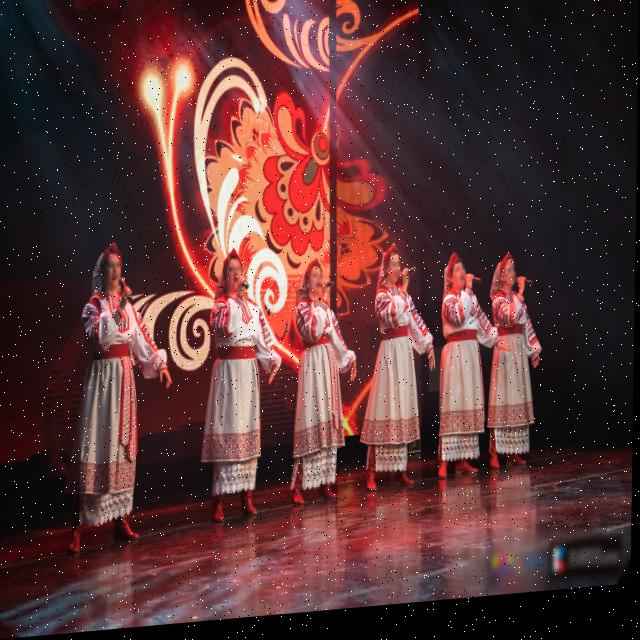Person: (73, 228, 157, 560), (201, 240, 276, 547), (358, 248, 430, 516), (288, 260, 352, 516), (491, 250, 546, 493), (438, 258, 490, 503)
